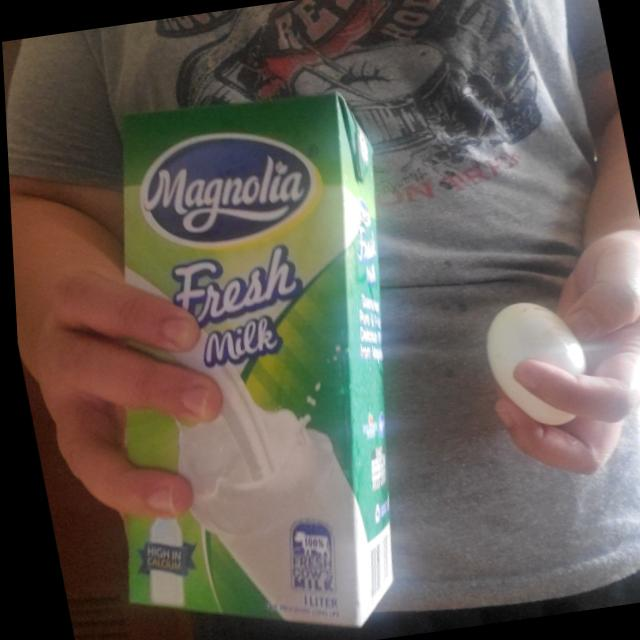egg: (475, 294, 592, 433)
milk: (30, 73, 465, 640)
